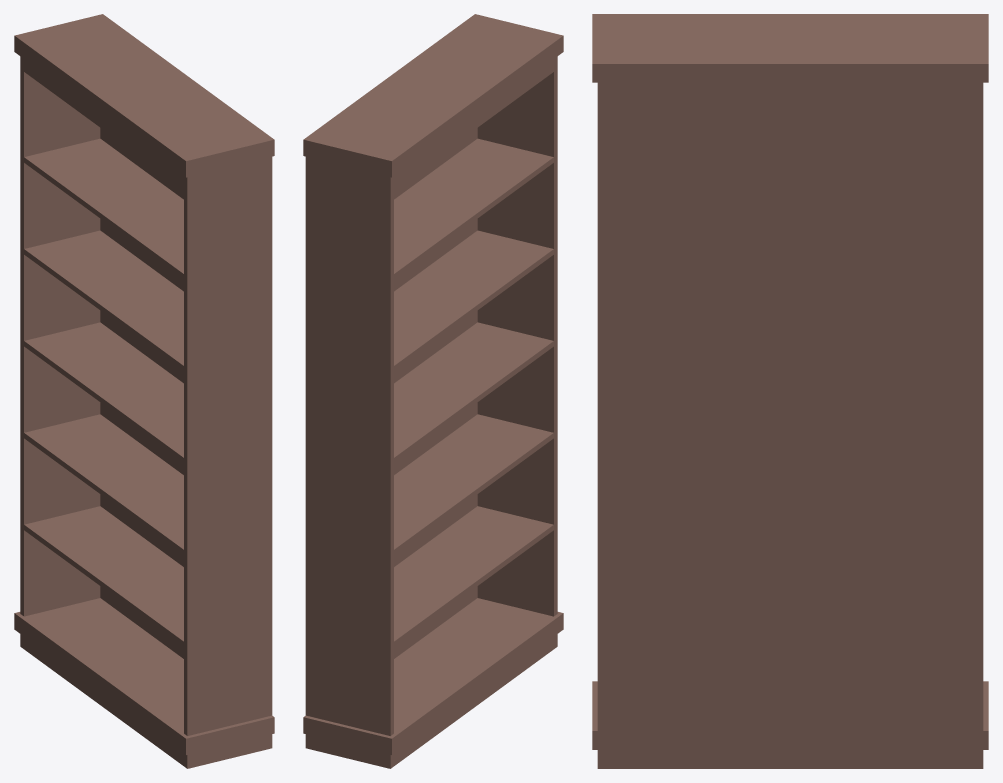
Rendered from Bookcase03.fbx.
3 renders of one model, left to right at view 1: azimuth 30°, elevation 25°; view 2: azimuth 150°, elevation 25°; view 3: azimuth 270°, elevation 25°, orthographic. The views are drawn at different scales.
Parts seen in each view (by area): view 1: Bookcase03; view 2: Bookcase03; view 3: Bookcase03.
Boxes of the visible parts, x1=… form: Bookcase03: x1=14, y1=14, x2=274, y2=768; Bookcase03: x1=303, y1=14, x2=563, y2=768; Bookcase03: x1=592, y1=14, x2=988, y2=768.
Bounding box in the file's own units: 0.2821 × 0.9482 × 1.86.
